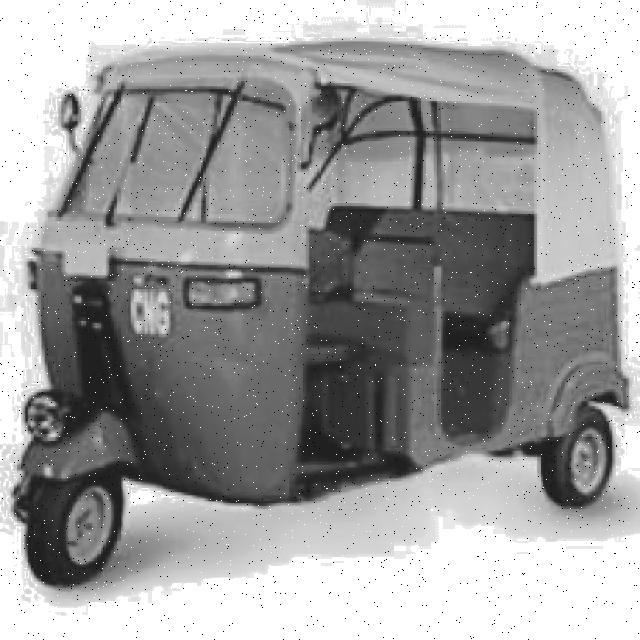Auto-Rickshaw: (0, 34, 637, 590)
